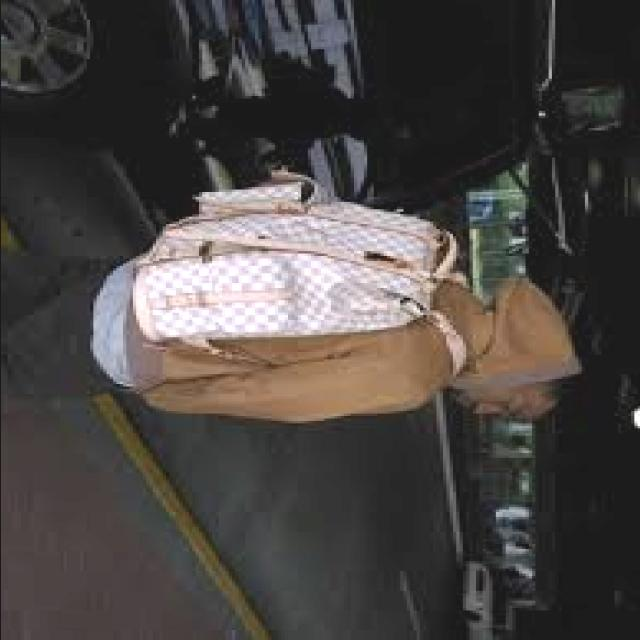backpack: (130, 174, 473, 383)
